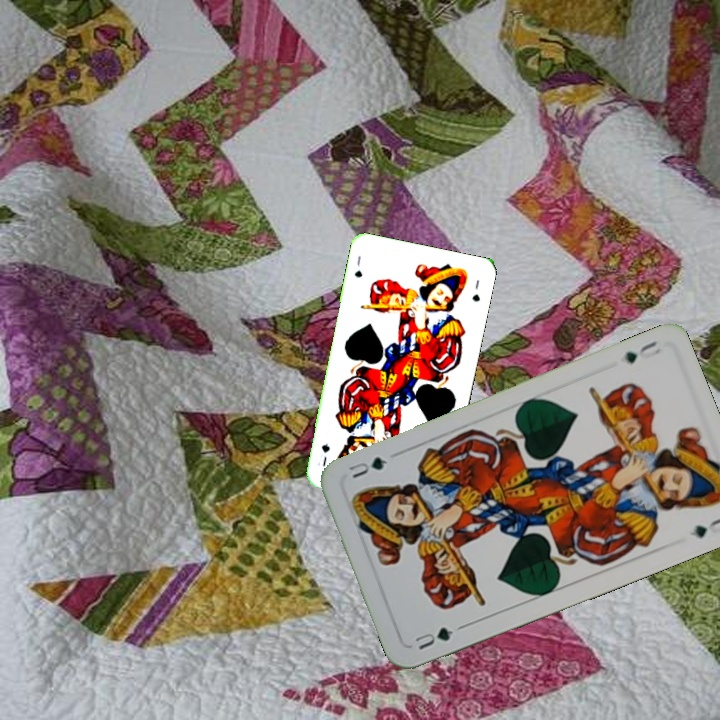GU: (410, 623, 456, 653), (620, 336, 664, 366), (350, 252, 365, 280)
